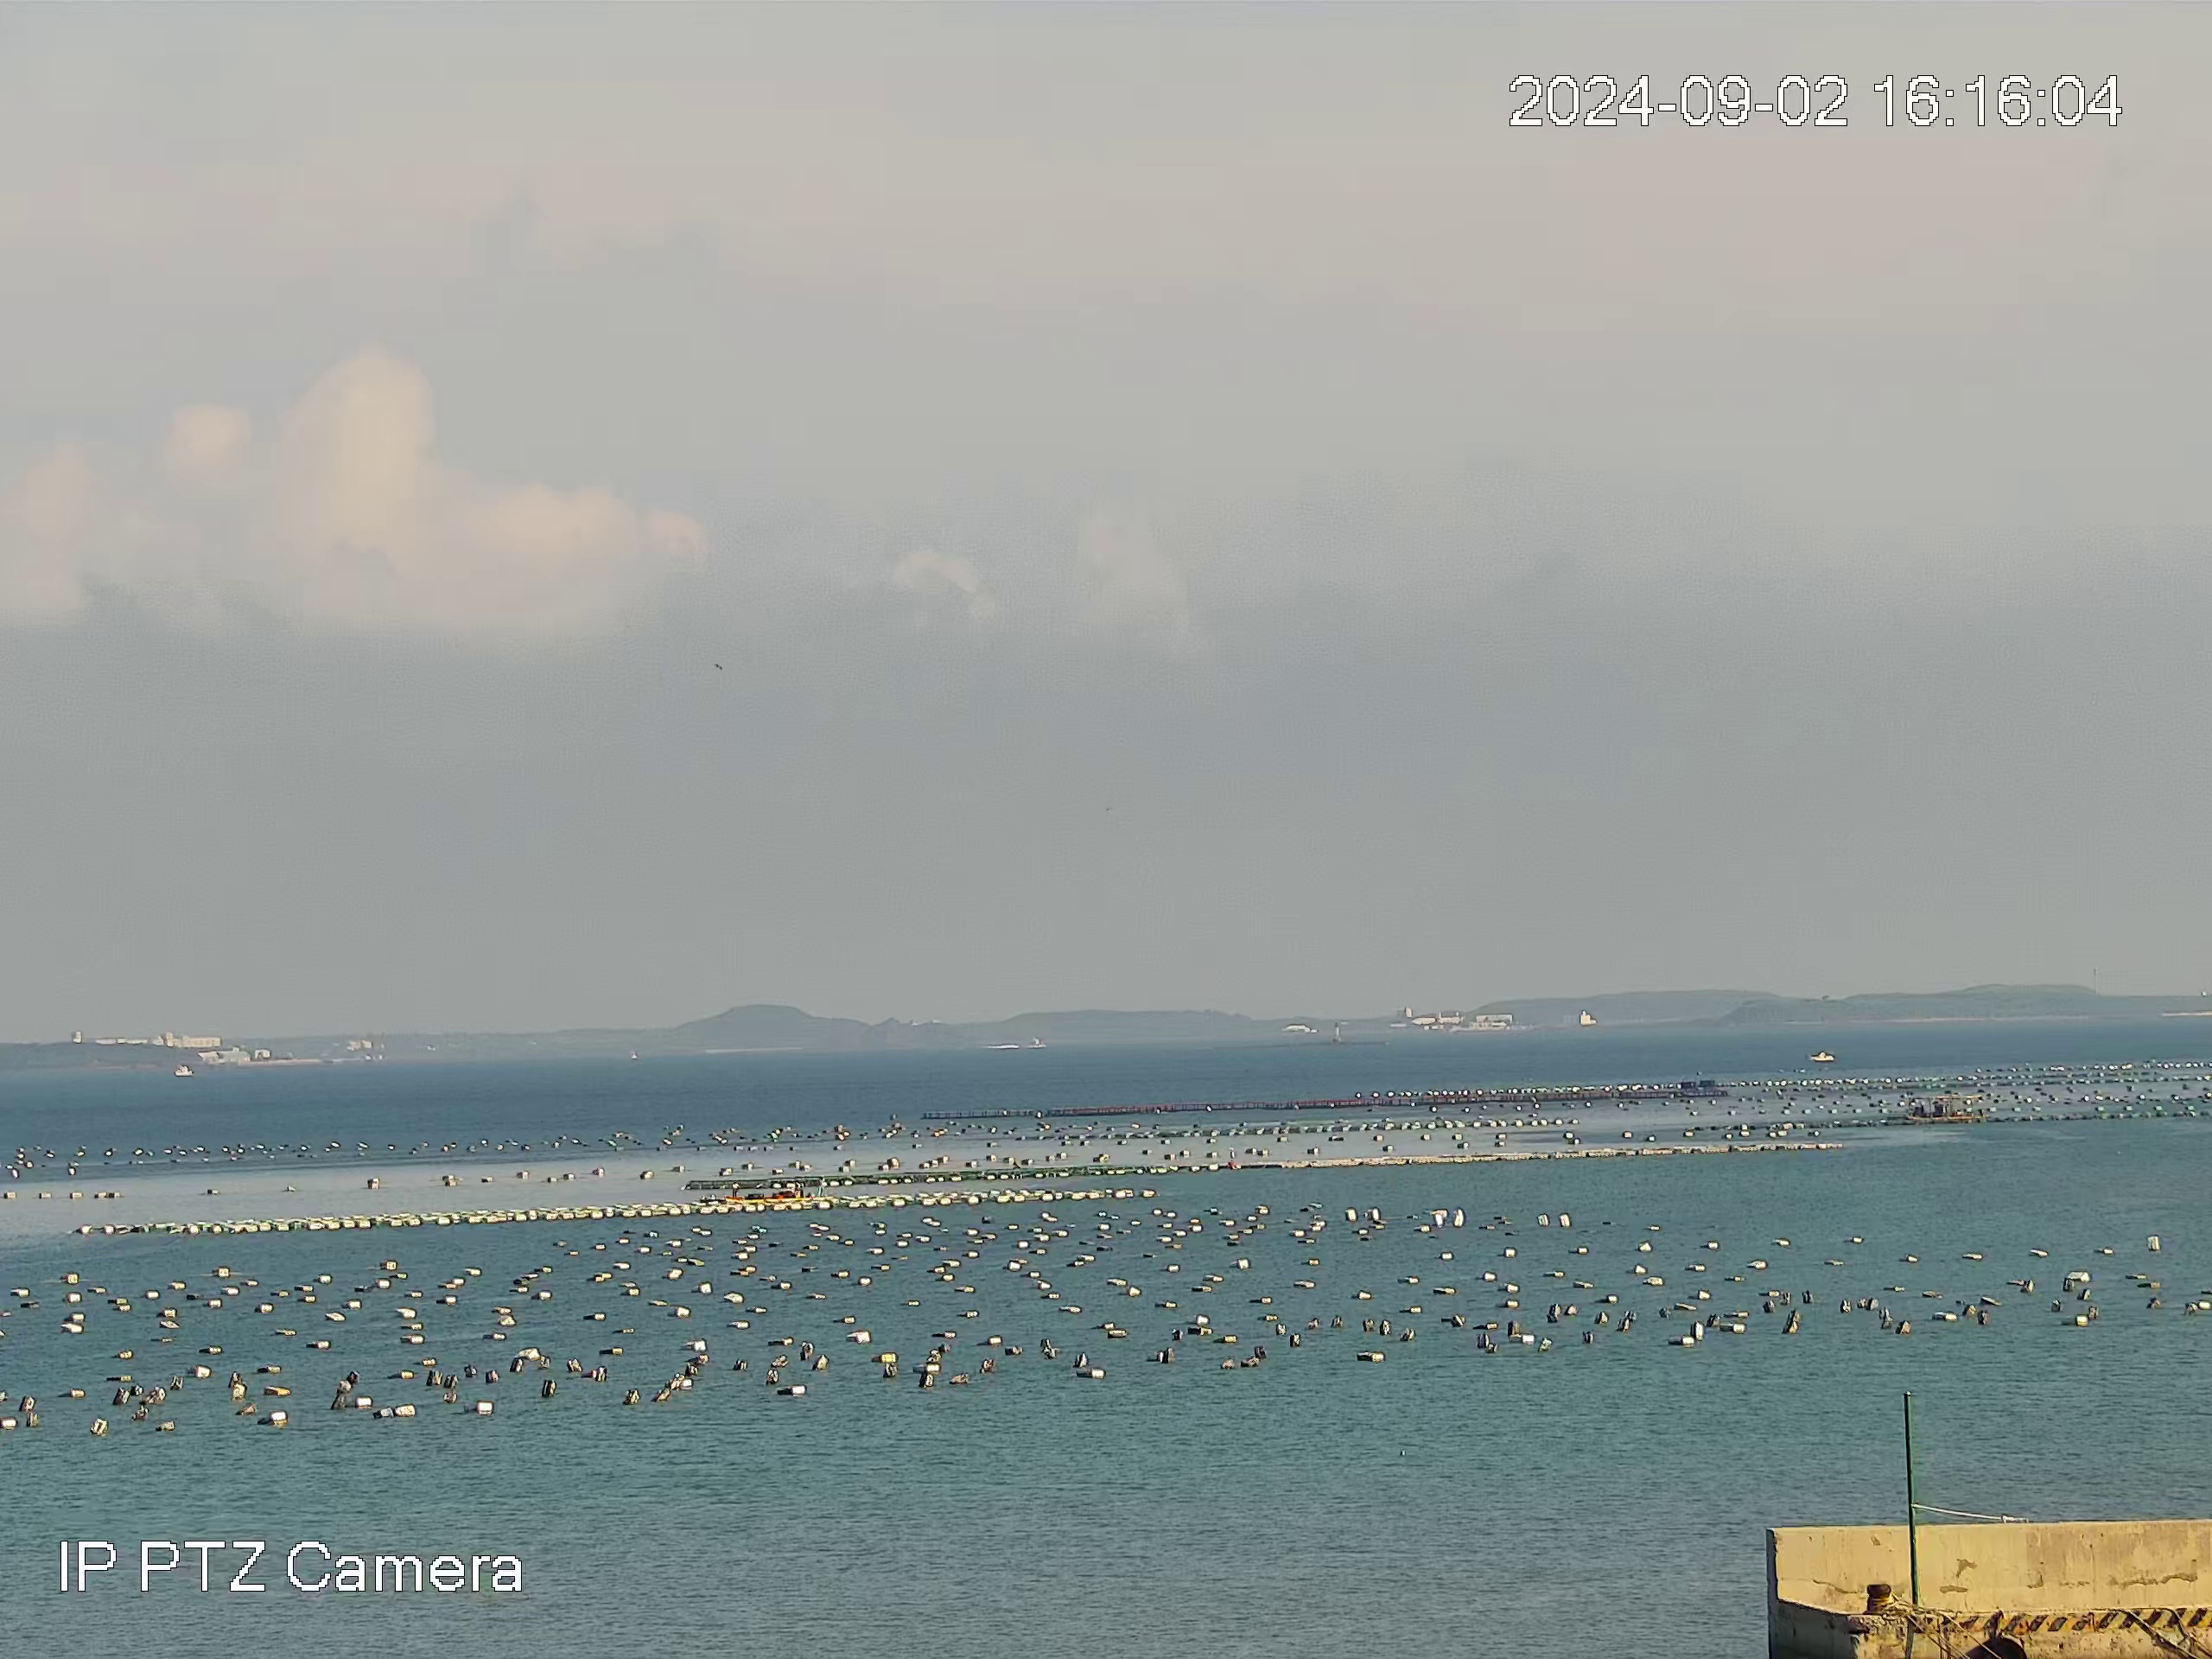boat: (1904, 1093, 1984, 1127), (725, 1180, 834, 1204), (1804, 1049, 1836, 1063)
